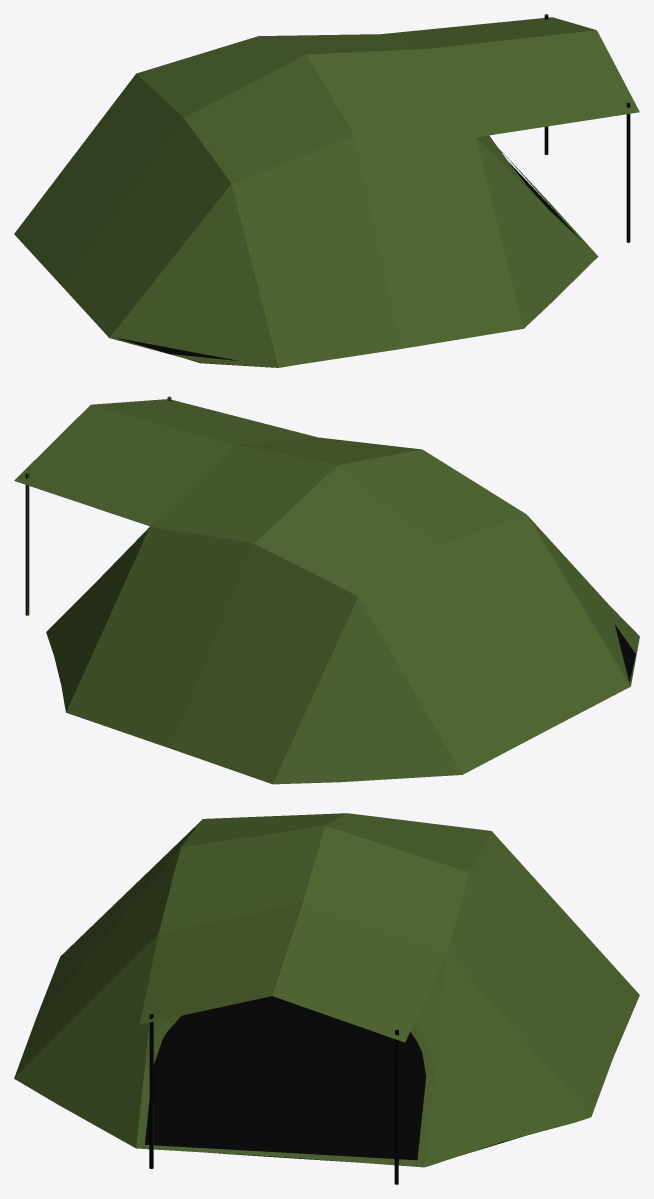
Rendered from tienda_2.fbx.
3 renders of one model, top to bottom at view 1: azimuth 30°, elevation 25°; view 2: azimuth 150°, elevation 25°; view 3: azimuth 270°, elevation 25°, orthographic. The views are drawn at different scales.
Visible parts, largest first — view 1: tent_iglu; view 2: tent_iglu; view 3: tent_iglu.
Part boxes in pixels (x1,y1,x2,y2): tent_iglu: (14, 14, 639, 367); tent_iglu: (14, 396, 639, 784); tent_iglu: (14, 813, 639, 1184).
Bounding box in the file's own units: 540 × 189 × 504.
